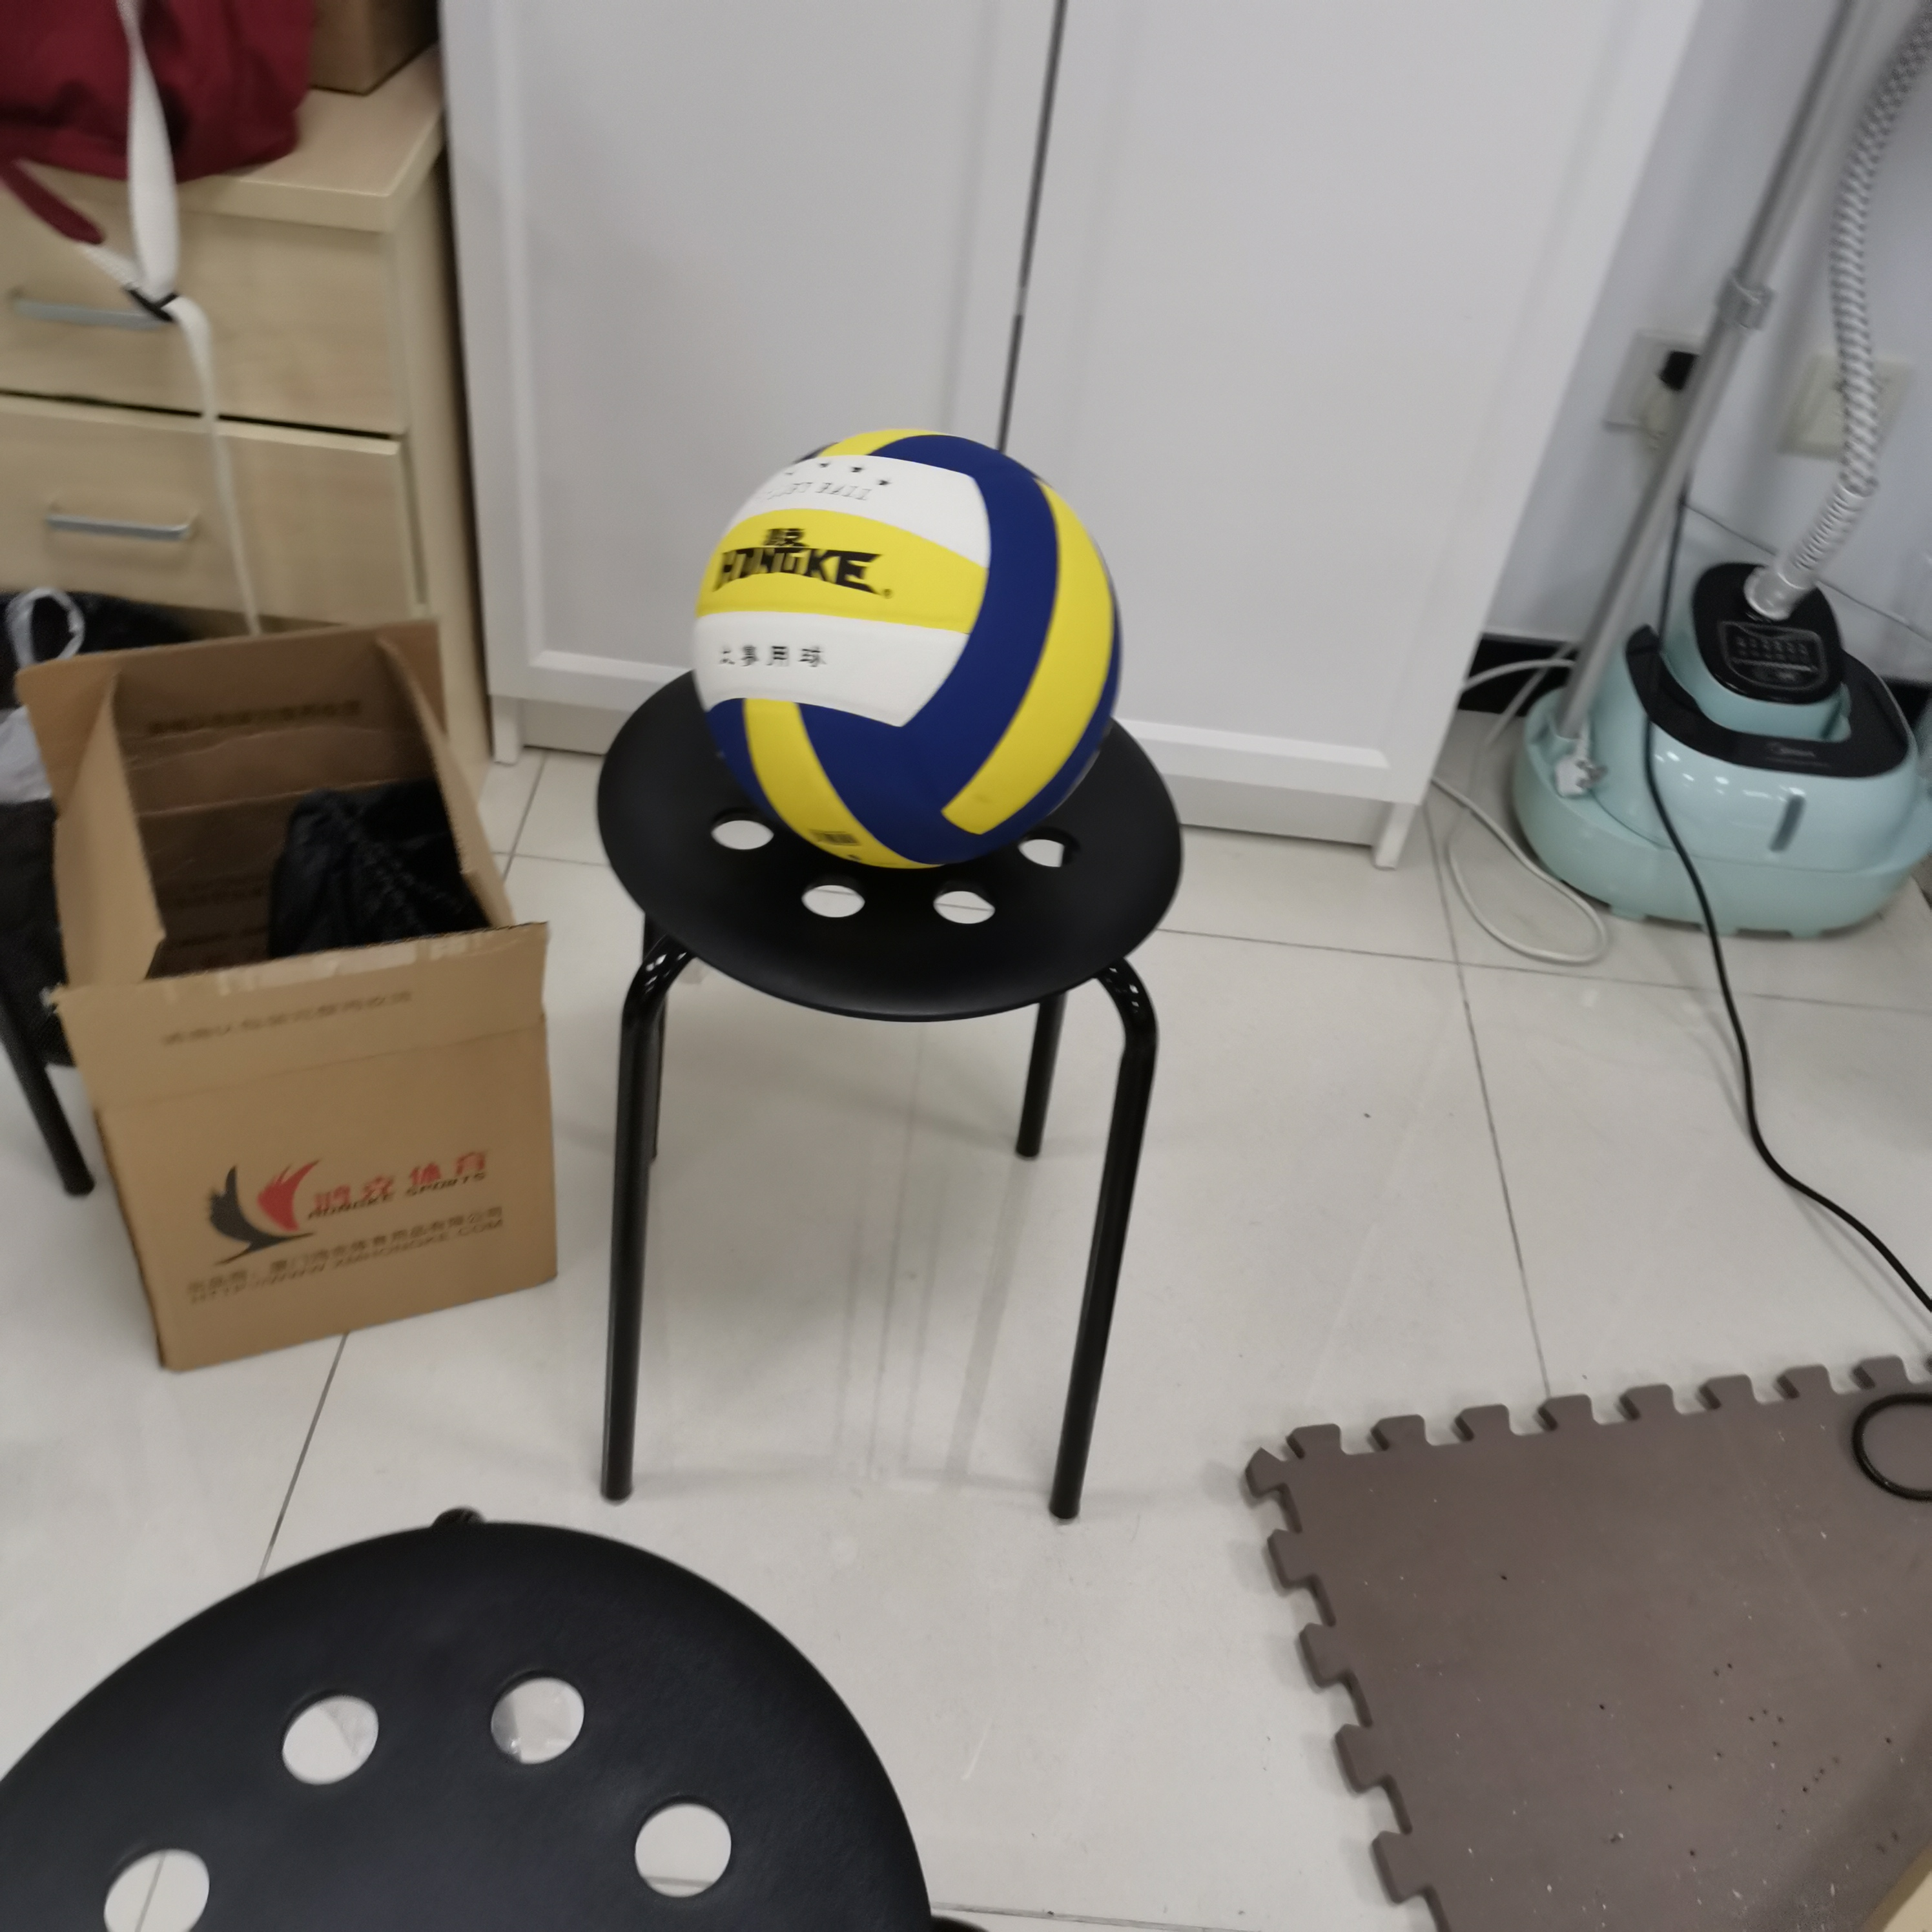volleyball: (694, 425, 1127, 869)
